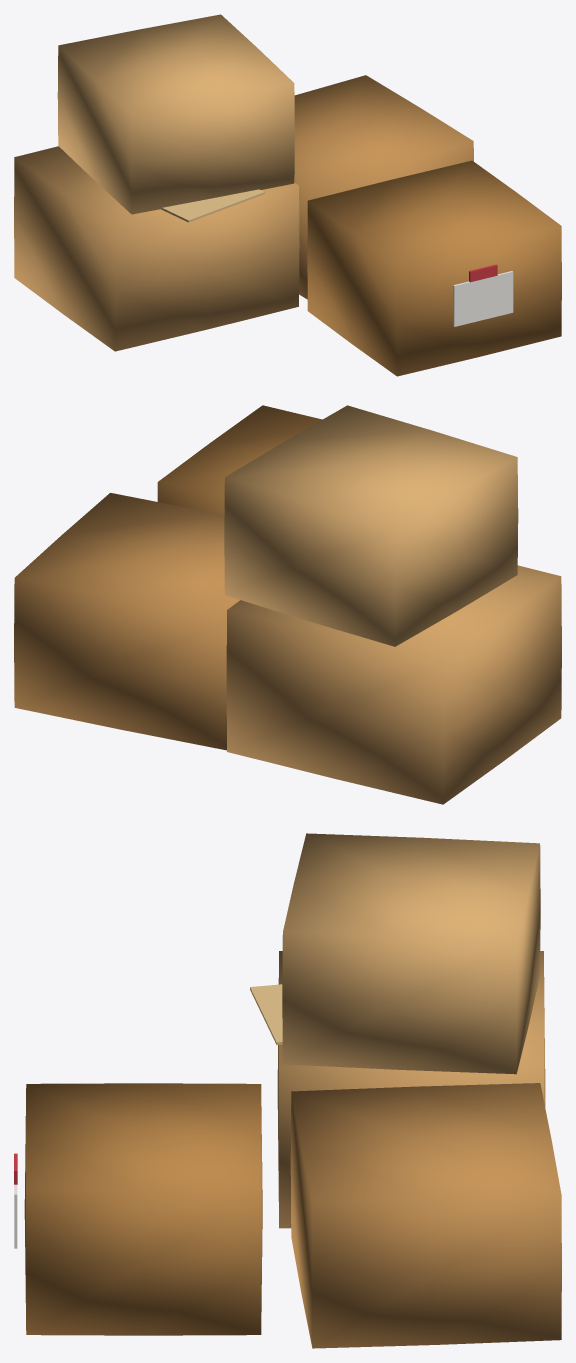
File: box_stack.glb
The picture shows the model from 3 angles, top to bottom: view 1: azimuth 30°, elevation 25°; view 2: azimuth 150°, elevation 25°; view 3: azimuth 270°, elevation 25°; orthographic projection. The views are drawn at different scales.
Visible parts, largest first — view 1: root; view 2: root; view 3: root.
Boxes of the visible parts, <box> form: root: <box>14,14,561,376</box>; root: <box>14,405,561,804</box>; root: <box>14,833,561,1348</box>.
Size of the model in its own units: 1.9 by 1.1 by 1.84.
